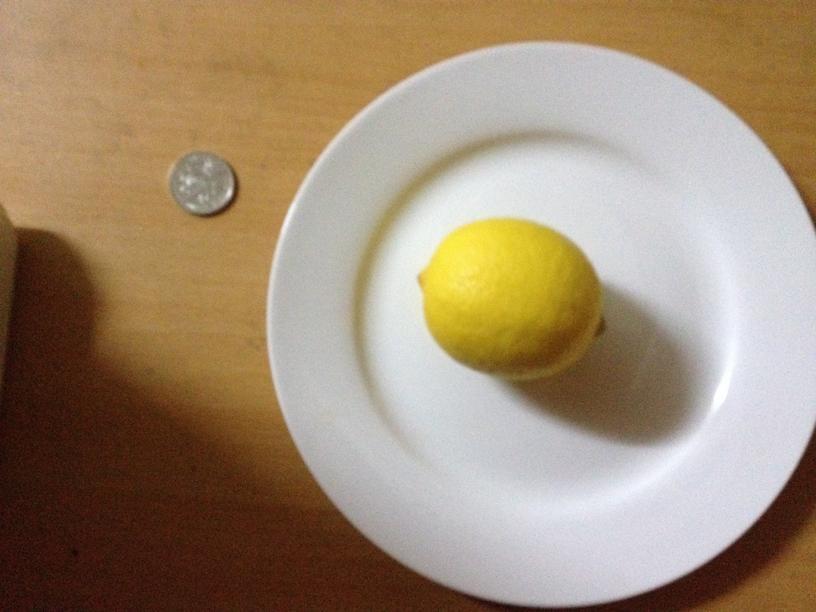coin: (164, 150, 236, 217)
lemon: (419, 222, 604, 384)
